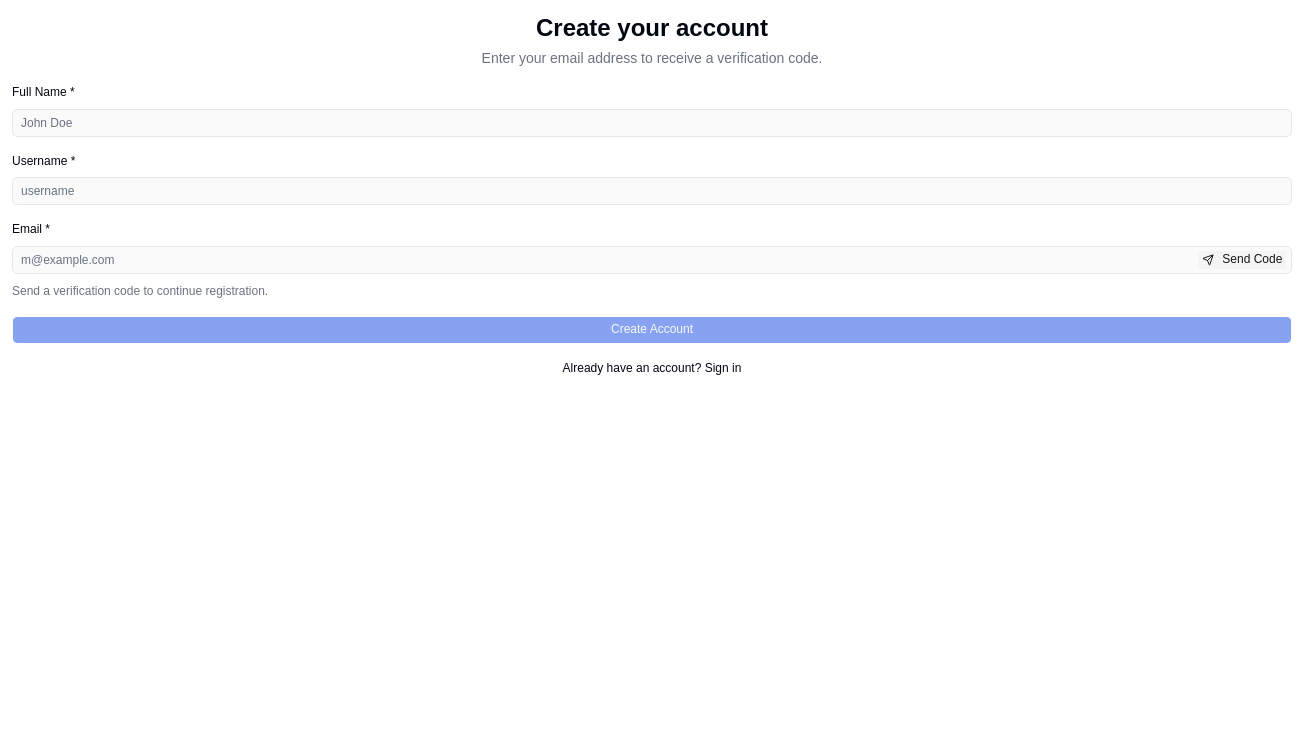
it: SignupForm › shows verification and password fields only after the code is sent
The width and height of the screenshot is (1304, 732).
Expected: the field labelled "password" is not shown
Expected: the field labelled "confirm password" is not shown
Click the button "Send Code": click(1242, 260) x1=1197 y1=250 x2=1287 y2=270
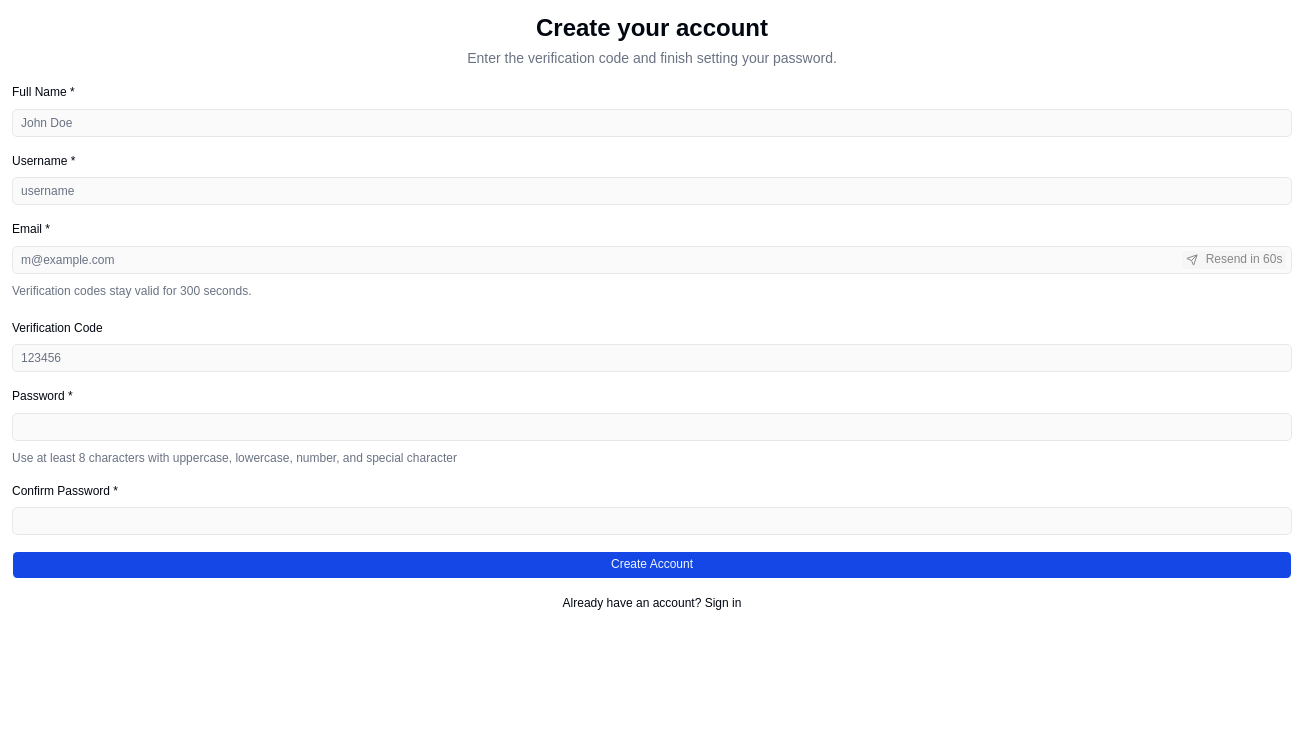
Result: the field labelled "Verification Code" is shown at x1=12 y1=344 x2=1292 y2=372
Result: the password field labelled "Password *" is shown at x1=12 y1=412 x2=1292 y2=440
Result: the password field labelled "Confirm Password *" is shown at x1=12 y1=507 x2=1292 y2=535
